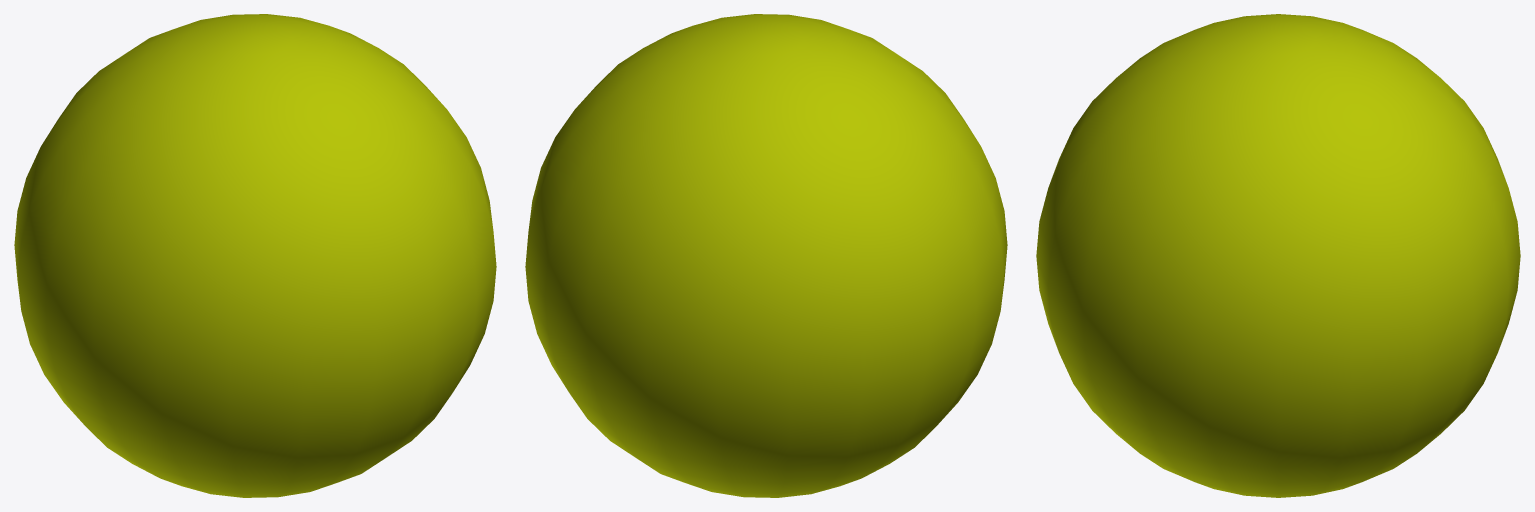
The model's file is cat.fbx.
3 views of the same model, side by side, from view 1: azimuth 30°, elevation 25°; view 2: azimuth 150°, elevation 25°; view 3: azimuth 270°, elevation 25° (orthographic).
Parts seen in each view (by area): view 1: pSphere1; view 2: pSphere1; view 3: pSphere1.
Part boxes in pixels (x1,y1,x2,y2): pSphere1: (14, 14, 496, 497); pSphere1: (525, 14, 1007, 497); pSphere1: (1036, 14, 1520, 497).
Bounding box in the file's own units: 10.08 × 10.08 × 10.08.
